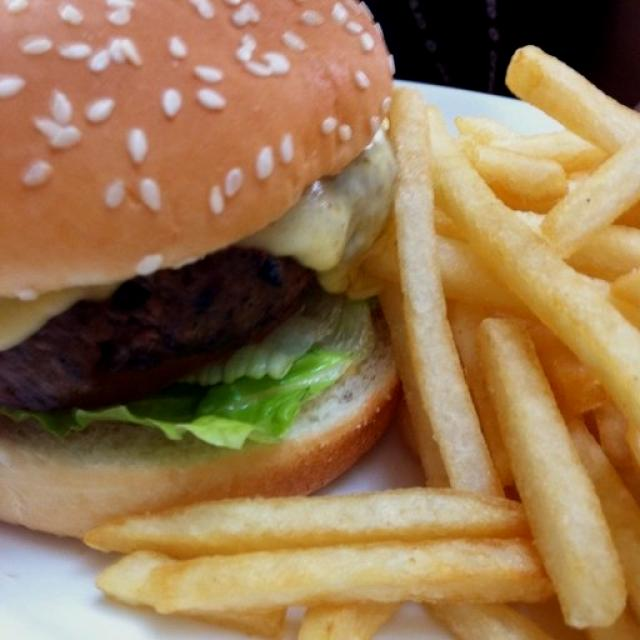burger: (0, 0, 408, 544)
